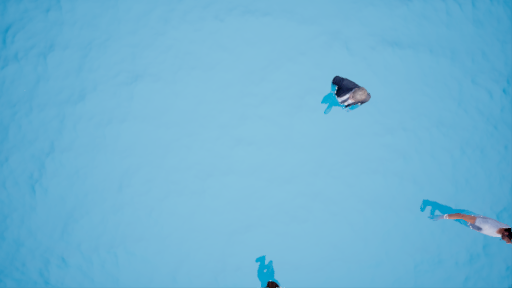person: (407, 197, 512, 247), (306, 67, 375, 116), (247, 251, 292, 288)
